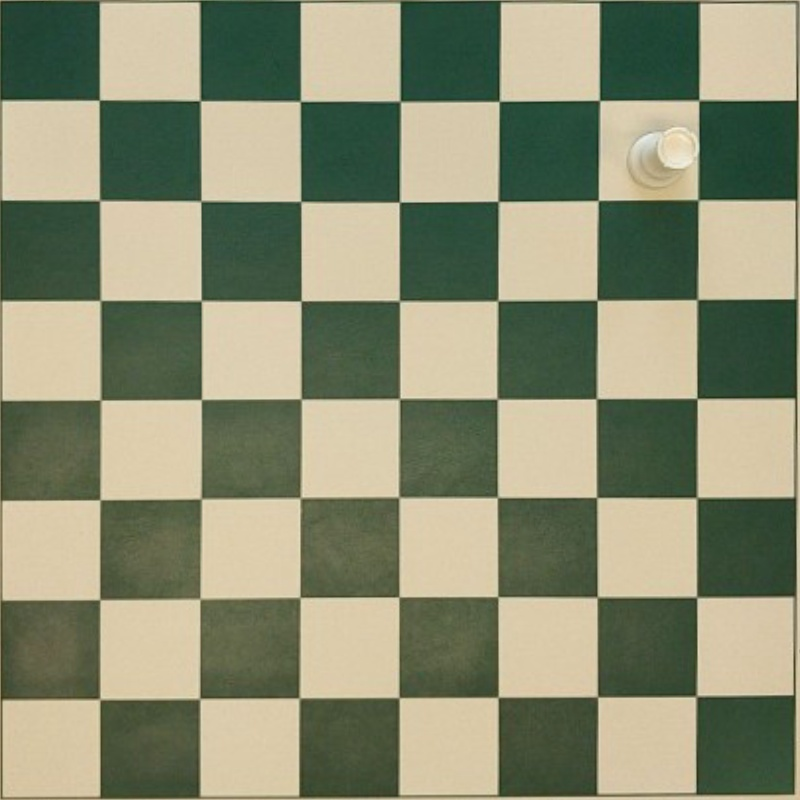white-rook: (629, 126, 698, 187)
